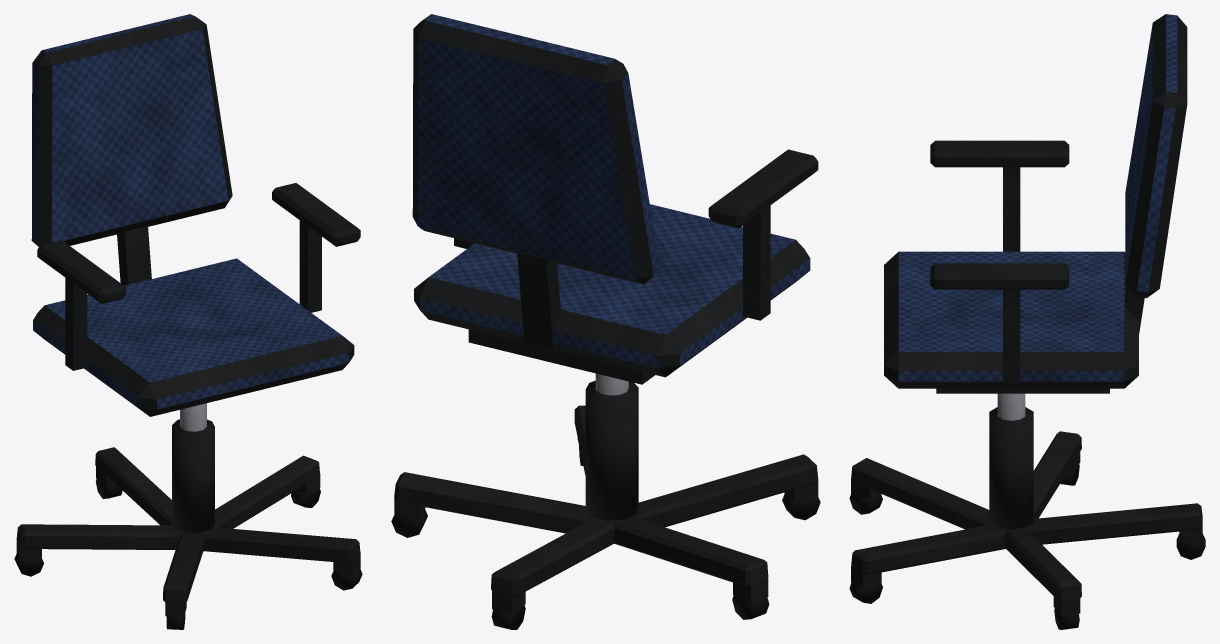
File: Lab_Chair.fbx
The picture shows the model from 3 angles, left to right: view 1: azimuth 30°, elevation 25°; view 2: azimuth 150°, elevation 25°; view 3: azimuth 270°, elevation 25°; orthographic projection. The views are drawn at different scales.
Visible parts, largest first — view 1: Lab_Chair; view 2: Lab_Chair; view 3: Lab_Chair.
Boxes of the visible parts, x1,y1,x2,y2 form: Lab_Chair: [14, 14, 362, 629]; Lab_Chair: [391, 14, 820, 629]; Lab_Chair: [849, 14, 1205, 629].
Bounding box in the file's own units: 0.6465 × 0.9595 × 0.6148.
